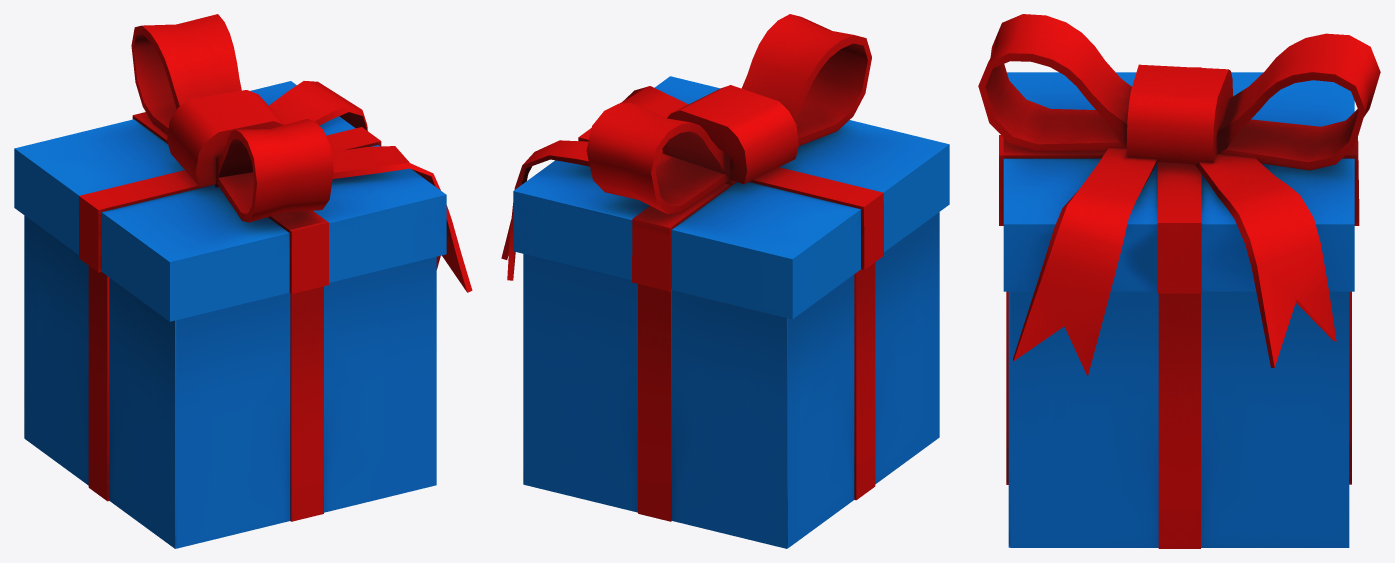
The model's file is removed_animation.glb.
3 views of the same model, side by side, from view 1: azimuth 30°, elevation 25°; view 2: azimuth 150°, elevation 25°; view 3: azimuth 270°, elevation 25° (orthographic). The views are drawn at different scales.
Parts seen in each view (by area): view 1: Object_9; view 2: Object_9; view 3: Object_9.
Boxes of the visible parts, left/top/right/bottom form: Object_9: left=14, top=14, right=472, bottom=548; Object_9: left=501, top=14, right=949, bottom=548; Object_9: left=978, top=14, right=1380, bottom=548.
Size of the model in its own units: 12.5 by 14.05 by 11.81.
1 material, 1 textured.
